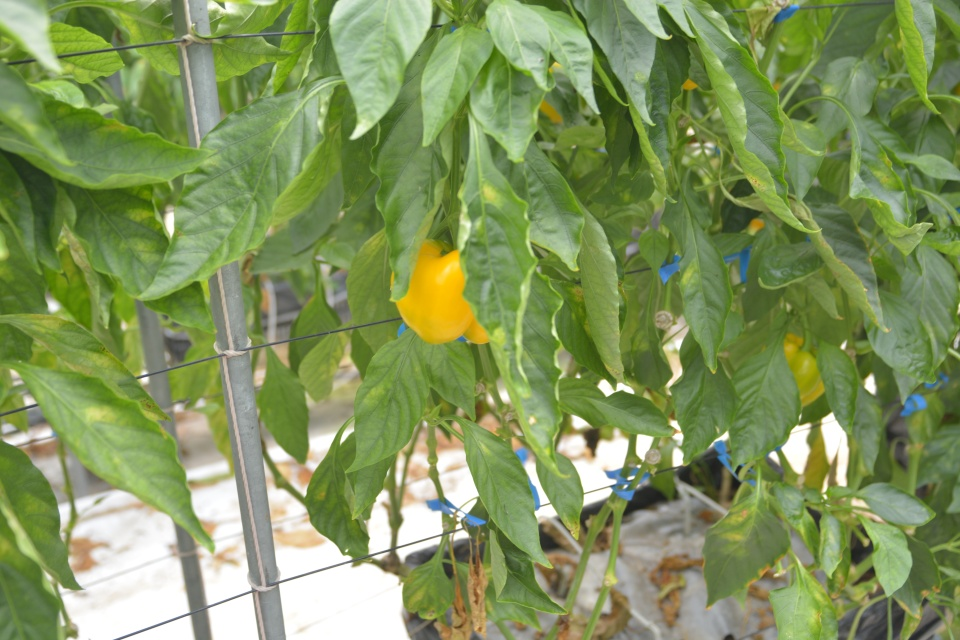fruit: (389, 235, 492, 346), (760, 331, 825, 414)
